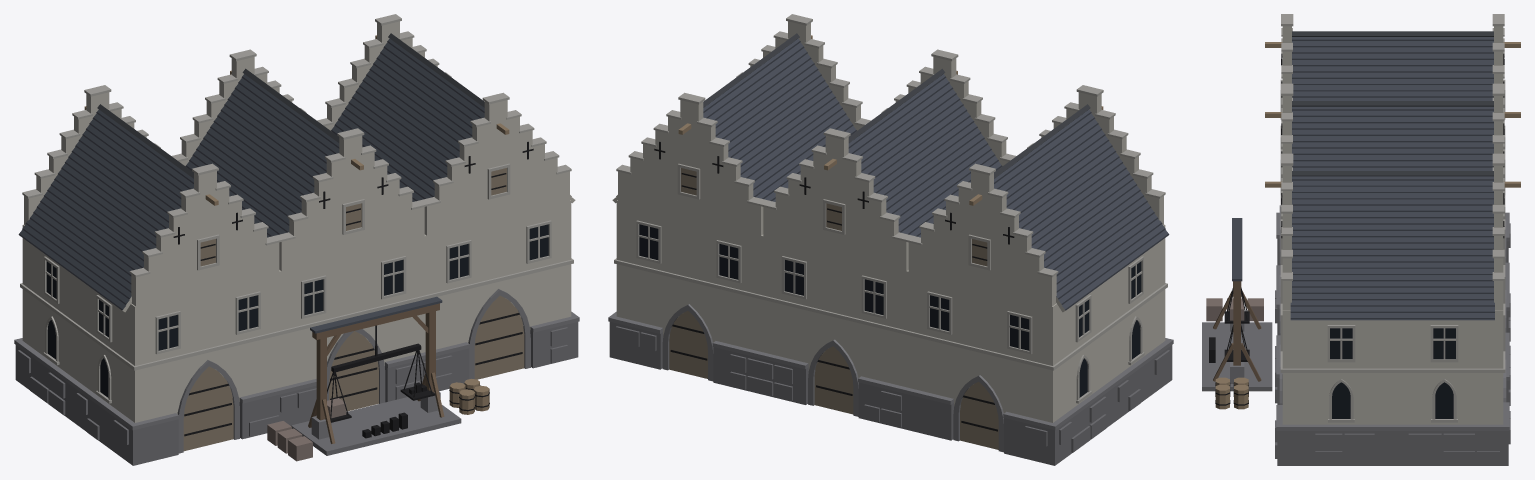
Rendered from stapelhaus.glb.
3 renders of one model, left to right at view 1: azimuth 30°, elevation 25°; view 2: azimuth 150°, elevation 25°; view 3: azimuth 270°, elevation 25°, orthographic.
Parts seen in each view (by area): view 1: Haus, Waage; view 2: Haus; view 3: Haus, Waage.
Part boxes in pixels (<box>): Haus: <box>14,14,579,465</box>; Waage: <box>267,296,489,461</box>; Haus: <box>608,14,1173,465</box>; Haus: <box>1265,14,1520,465</box>; Waage: <box>1202,218,1272,409</box>.
Bounding box in the file's own units: 24.95 × 14.46 × 15.45.
